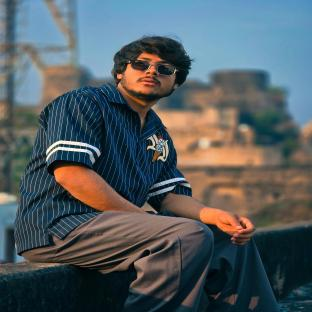Human: (14, 36, 279, 312)
